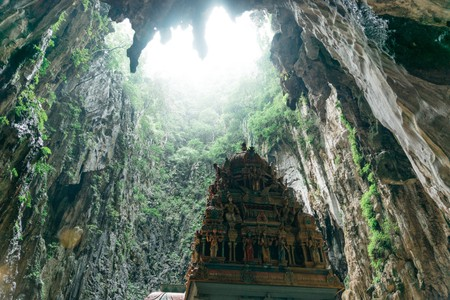Hindu Temple: (199, 145, 329, 285)
